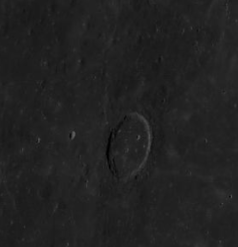crater: (92, 93, 200, 202), (59, 116, 89, 154)
